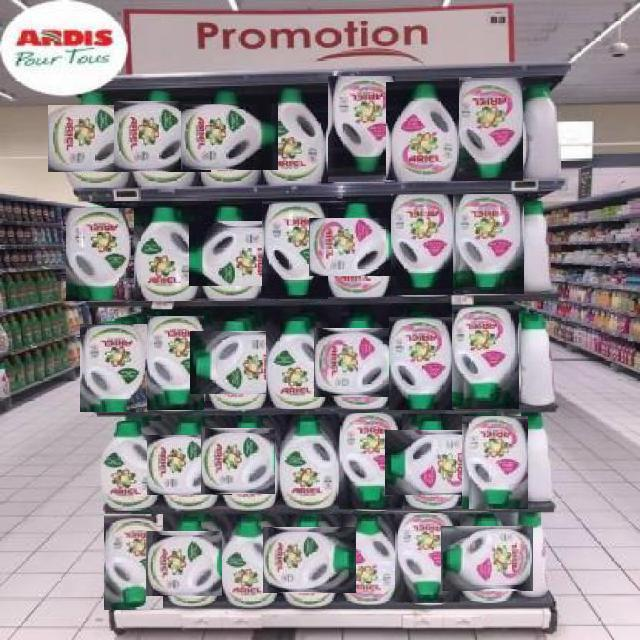Detergent: (452, 193, 524, 294), (328, 75, 395, 182), (452, 305, 519, 409), (386, 82, 457, 180), (113, 102, 211, 172), (459, 77, 523, 181), (261, 201, 328, 299), (136, 208, 207, 300), (65, 207, 134, 301), (47, 106, 145, 172), (180, 104, 278, 170), (200, 428, 298, 494), (390, 194, 454, 295), (461, 415, 528, 509), (338, 412, 402, 510), (314, 329, 406, 397), (267, 314, 331, 411), (388, 316, 454, 410), (262, 527, 356, 593), (276, 410, 337, 511), (79, 323, 148, 412), (386, 430, 480, 495), (441, 525, 533, 591), (191, 330, 285, 394), (394, 512, 460, 603), (190, 220, 280, 286), (103, 513, 163, 610), (308, 219, 409, 276), (146, 531, 233, 596), (337, 516, 398, 607), (222, 518, 282, 610), (146, 315, 204, 410), (101, 422, 161, 509), (146, 435, 232, 495)
